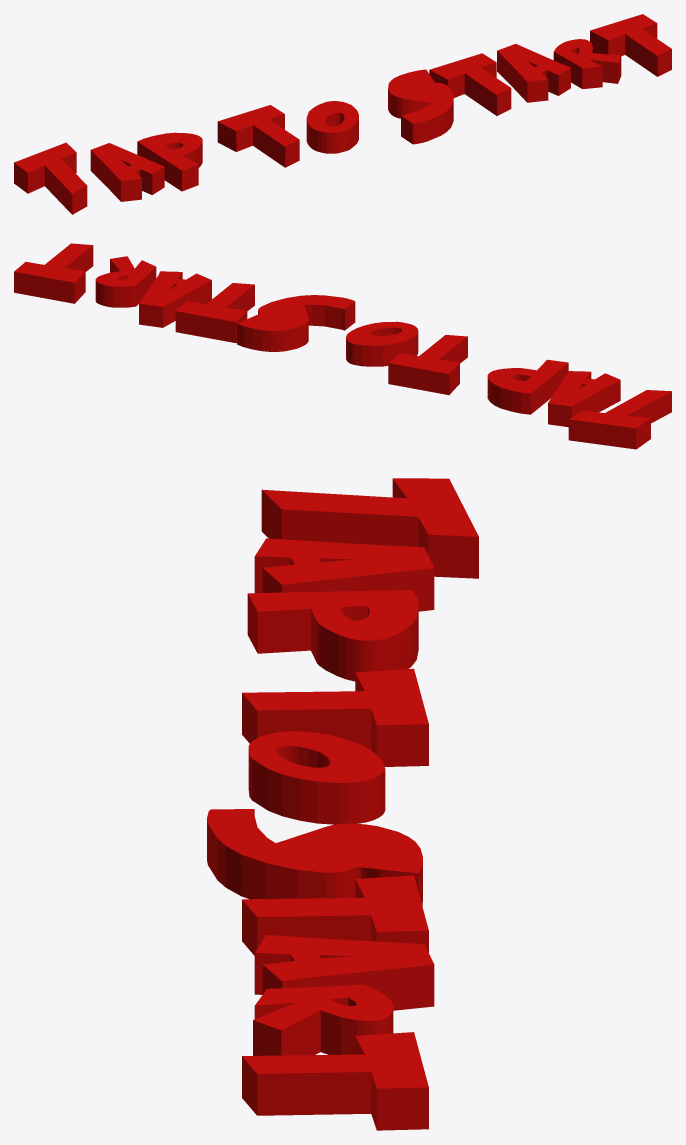
Rendered from taptostart.fbx.
3 views of the same model, one above another, from view 1: azimuth 30°, elevation 25°; view 2: azimuth 150°, elevation 25°; view 3: azimuth 270°, elevation 25° (orthographic). The views are drawn at different scales.
Parts seen in each view (by area): view 1: Text; view 2: Text; view 3: Text.
Boxes of the visible parts, x1,y1,x2,y2 form: Text: (14,14,671,214); Text: (14,243,671,449); Text: (207,478,478,1130).
Bounding box in the file's own units: 5.12 × 0.1639 × 0.9658.
